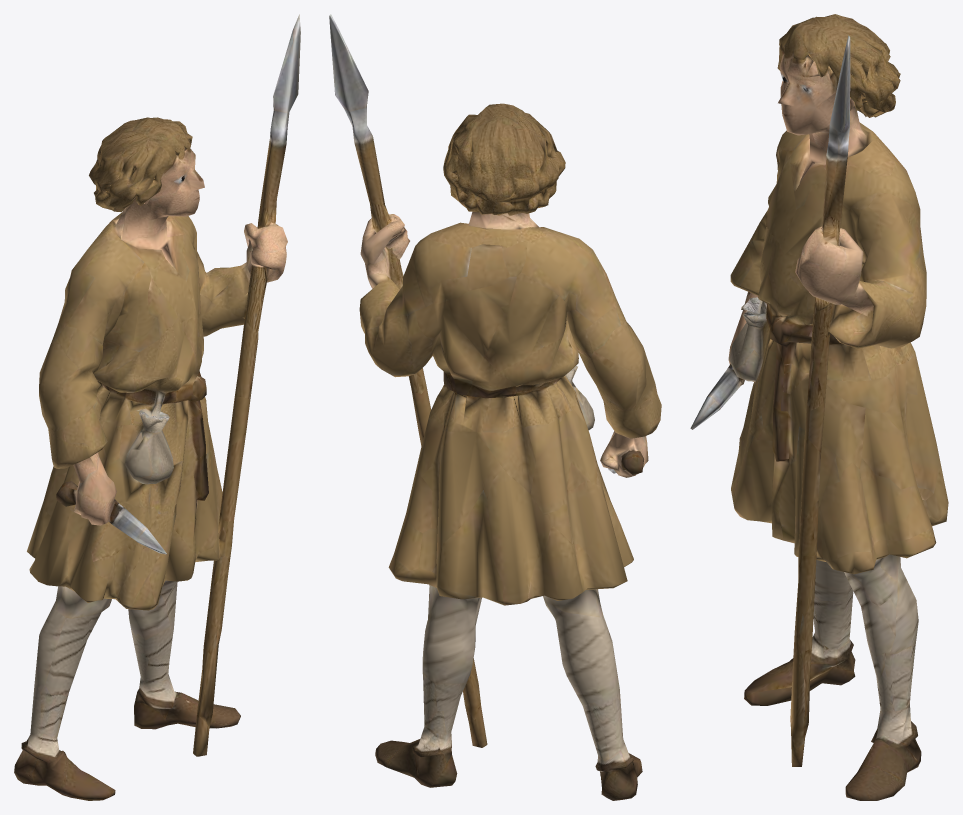
File: vill.glb
The picture shows the model from 3 angles, left to right: view 1: azimuth 30°, elevation 25°; view 2: azimuth 150°, elevation 25°; view 3: azimuth 270°, elevation 25°; orthographic projection. The views are drawn at different scales.
Size of the model in its own units: 0.8301 by 1.9 by 0.5579.
1 material, 1 textured.
